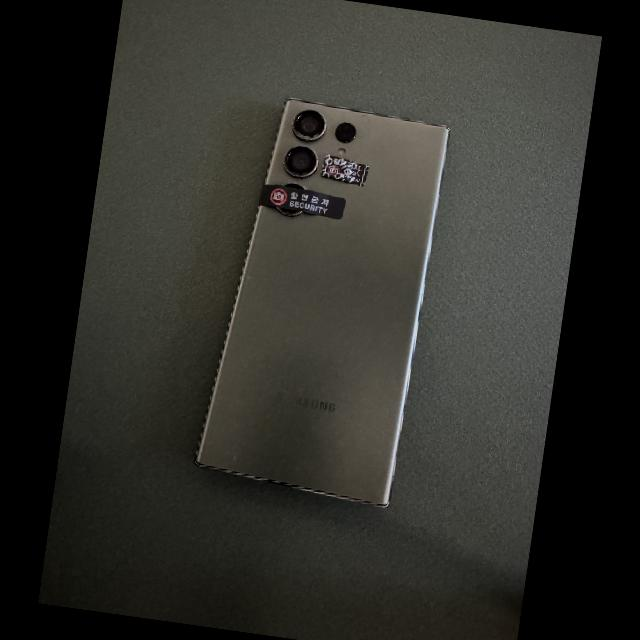lens: (285, 145, 317, 176), (295, 109, 326, 140), (335, 123, 357, 144), (278, 207, 303, 215)
phone: (196, 99, 449, 506)
sticker: (258, 185, 346, 219), (321, 155, 369, 186)
